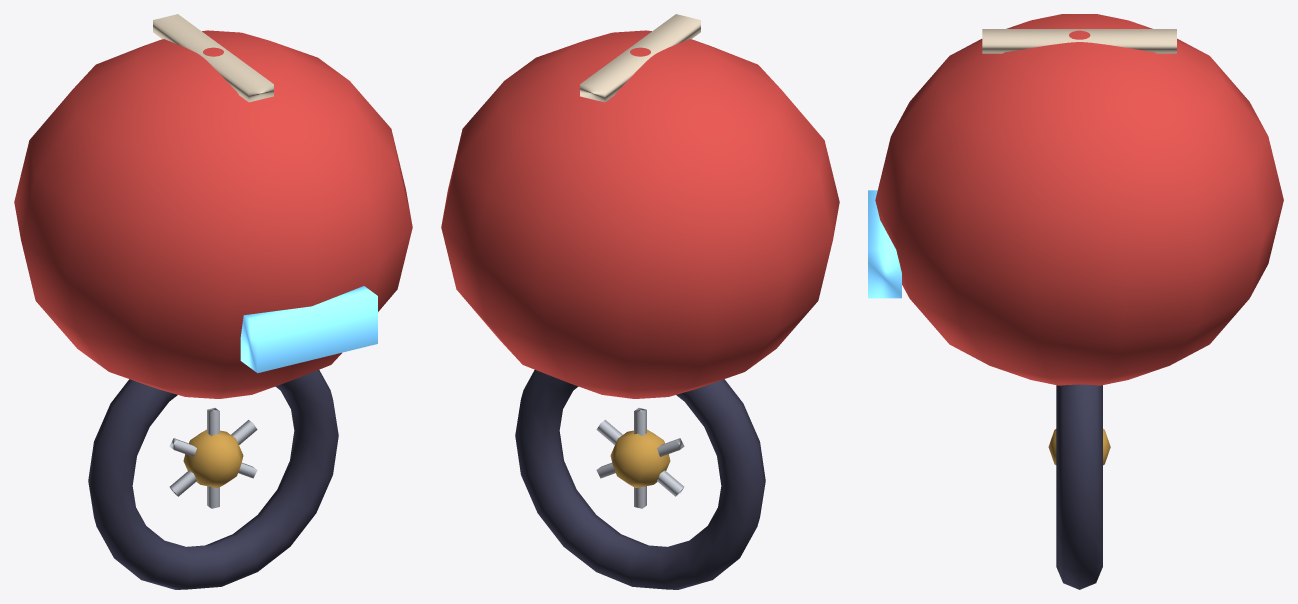
The model's file is opera_racer_outfit.glb.
3 views of the same model, side by side, from view 1: azimuth 30°, elevation 25°; view 2: azimuth 150°, elevation 25°; view 3: azimuth 270°, elevation 25° (orthographic).
Visible parts, largest first — view 1: Helmet.001, WheelRim, Visor, BrimStripe, Hub, Spoke2, Spoke0; view 2: Helmet.001, WheelRim, BrimStripe, Hub, Spoke2, Spoke0; view 3: Helmet.001, WheelRim, BrimStripe, Visor.
Part boxes in pixels (x1,y1,x2,y2): Helmet.001: (14, 30, 412, 398); WheelRim: (88, 370, 338, 589); Visor: (240, 286, 377, 373); BrimStripe: (153, 14, 273, 102); Hub: (183, 429, 243, 487); Spoke2: (169, 420, 257, 496); Spoke0: (207, 408, 219, 508); Helmet.001: (441, 30, 839, 398); WheelRim: (515, 370, 765, 589); BrimStripe: (580, 14, 700, 102); Hub: (610, 429, 670, 487); Spoke2: (596, 420, 684, 496); Spoke0: (634, 408, 646, 508); Helmet.001: (875, 14, 1283, 385); WheelRim: (1056, 384, 1102, 589); BrimStripe: (982, 29, 1176, 53); Visor: (868, 190, 901, 298).
Bounding box in the file's own units: 2.05 × 3.08 × 2.14.
